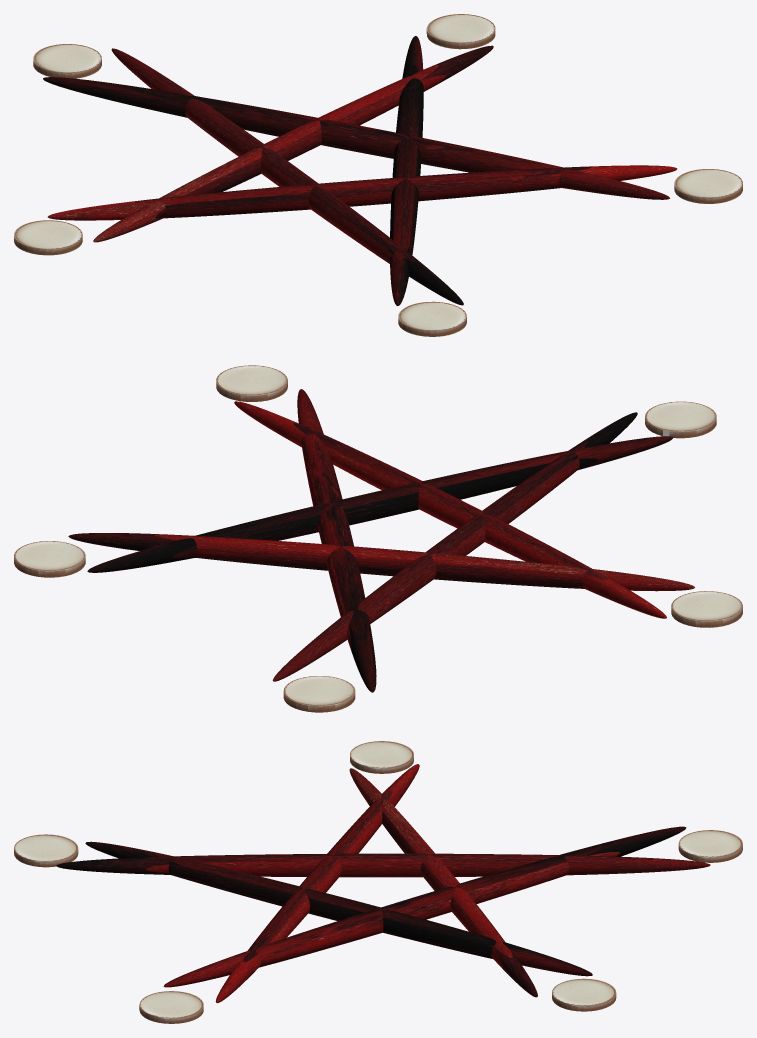
Rendered from ПЕНТАГРАММА.fbx.
3 views of the same model, one above another, from view 1: azimuth 30°, elevation 25°; view 2: azimuth 150°, elevation 25°; view 3: azimuth 270°, elevation 25° (orthographic). The views are drawn at different scales.
Parts seen in each view (by area): view 1: Cube.001, Cube, Cube.003, Cube.002, Cube.004, Cylinder.001, Cylinder.004, Cylinder.002, Cylinder.005, Cylinder.003; view 2: Cube.002, Cube.004, Cube, Cube.003, Cube.001, Cylinder.003, Cylinder.002, Cylinder.004, Cylinder.001, Cylinder.005; view 3: Cube.003, Cube.001, Cube.004, Cube, Cube.002, Cylinder.005, Cylinder.004, Cylinder.003, Cylinder.001, Cylinder.002.
Boxes of the visible parts, bbox=[...] form: Cube.001: bbox=[43, 77, 669, 199]; Cube: bbox=[47, 165, 677, 220]; Cube.003: bbox=[111, 48, 463, 305]; Cube.002: bbox=[93, 45, 493, 242]; Cube.004: bbox=[390, 36, 423, 305]; Cylinder.001: bbox=[14, 220, 82, 255]; Cylinder.004: bbox=[426, 14, 495, 49]; Cylinder.002: bbox=[398, 301, 466, 336]; Cylinder.005: bbox=[674, 169, 742, 203]; Cylinder.003: bbox=[33, 44, 101, 78]; Cube.002: bbox=[68, 533, 694, 591]; Cube.004: bbox=[87, 436, 673, 572]; Cube: bbox=[234, 401, 666, 618]; Cube.003: bbox=[272, 412, 637, 681]; Cube.001: bbox=[297, 389, 376, 692]; Cylinder.003: bbox=[283, 676, 355, 712]; Cylinder.002: bbox=[645, 401, 716, 438]; Cylinder.004: bbox=[14, 541, 85, 577]; Cylinder.001: bbox=[671, 591, 742, 627]; Cylinder.005: bbox=[216, 365, 287, 401]; Cube.003: bbox=[56, 853, 710, 877]; Cube.001: bbox=[163, 826, 686, 987]; Cube.004: bbox=[85, 841, 592, 976]; Cube: bbox=[215, 764, 419, 1002]; Cube.002: bbox=[349, 768, 537, 997]; Cylinder.005: bbox=[139, 991, 203, 1023]; Cylinder.004: bbox=[552, 978, 616, 1011]; Cylinder.003: bbox=[678, 830, 742, 862]; Cylinder.001: bbox=[350, 741, 413, 773]; Cylinder.002: bbox=[14, 834, 78, 867].
Size of the model in its own units: 222 by 7.85 by 247.
2 materials, 2 textured.
